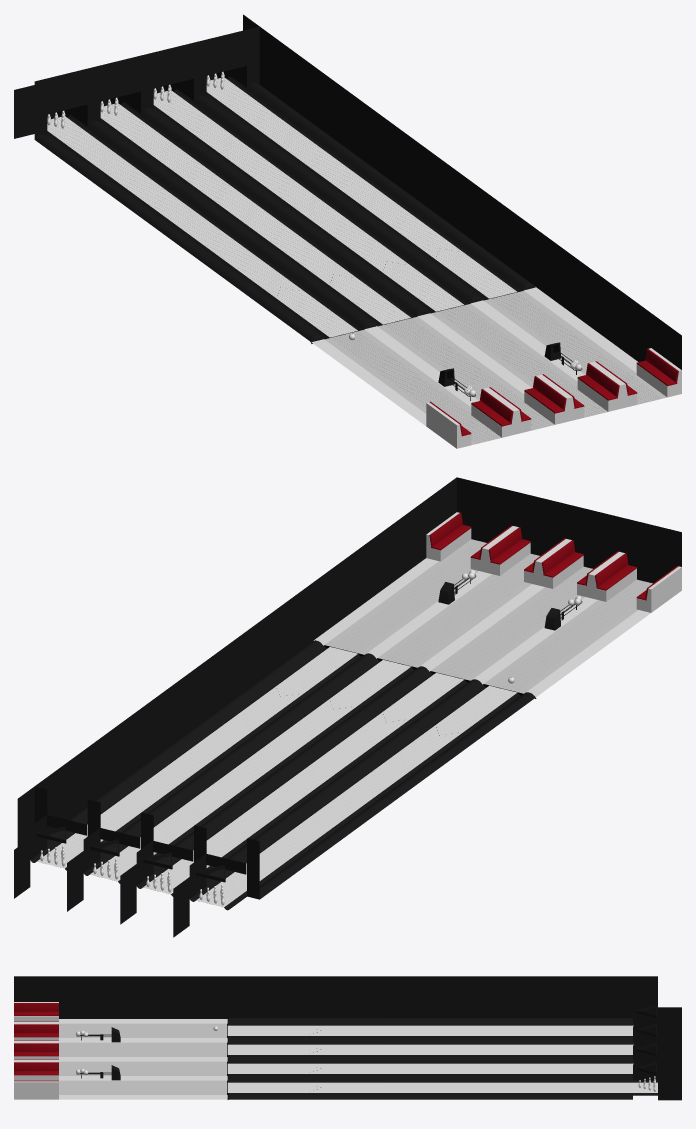
File: bowling lane.fbx
3 renders of one model, top to bottom at view 1: azimuth 30°, elevation 25°; view 2: azimuth 150°, elevation 25°; view 3: azimuth 270°, elevation 25°, orthographic. The views are drawn at different scales.
Visible parts, largest first — view 1: Room, Plane.002, approach, approach.006, approach.004, head-fines.002, head-fines, head-fines.004, head-fines.006, approach.002, duck.008, duck.005 (+27 smaller); view 2: Room, Plane.002, approach, approach.004, approach.006, approach.002, head-fines.002, head-fines.004, head-fines, head-fines.006, duck.008, duck (+23 smaller); view 3: Room, Plane.002, head-fines, head-fines.002, head-fines.004, head-fines.006, approach.002, approach.006, duck.001, duck.008, duck.003, duck.005 (+22 smaller).
Boxes of the visible parts, box(x1,y1,x2,y2) form: Room: box(243, 14, 681, 369); Plane.002: box(471, 361, 637, 437); approach: box(324, 329, 501, 445); approach.006: box(483, 290, 666, 404); approach.004: box(430, 303, 607, 417); head-fines.002: box(224, 201, 410, 324); head-fines: box(171, 214, 357, 337); head-fines.004: box(277, 188, 463, 311); head-fines.006: box(331, 175, 516, 298); approach.002: box(377, 316, 554, 430); duck.008: box(35, 134, 322, 343); duck.005: box(194, 95, 482, 303); Room: box(17, 477, 681, 846); Plane.002: box(470, 525, 636, 601); approach: box(483, 579, 652, 693); approach.004: box(377, 553, 539, 667); approach.006: box(324, 539, 486, 654); approach.002: box(430, 566, 592, 680); head-fines.002: box(278, 672, 463, 795); head-fines.004: box(225, 660, 410, 782); head-fines: box(331, 685, 517, 808); head-fines.006: box(172, 647, 357, 769); duck.008: box(259, 692, 536, 899); duck: box(190, 684, 520, 910); Room: box(14, 976, 657, 1018); Plane.002: box(14, 1021, 58, 1080); head-fines: box(227, 1025, 460, 1035); head-fines.002: box(227, 1044, 460, 1054); head-fines.004: box(227, 1063, 460, 1073); head-fines.006: box(227, 1082, 460, 1092); approach.002: box(59, 1042, 227, 1056); approach.006: box(59, 1080, 227, 1094); duck.001: box(227, 1037, 632, 1042); duck.008: box(227, 1018, 632, 1023); duck.003: box(227, 1056, 632, 1061); duck.005: box(227, 1075, 632, 1080).
Size of the model in its own units: 848 by 306 by 2972.
